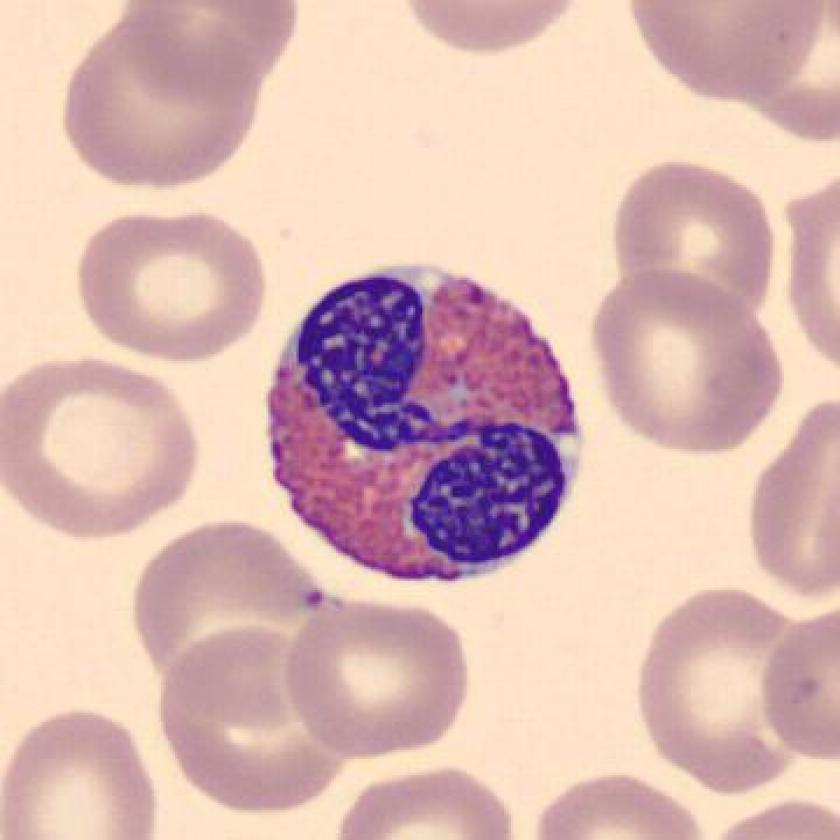eosinophil: (253, 247, 598, 601)
